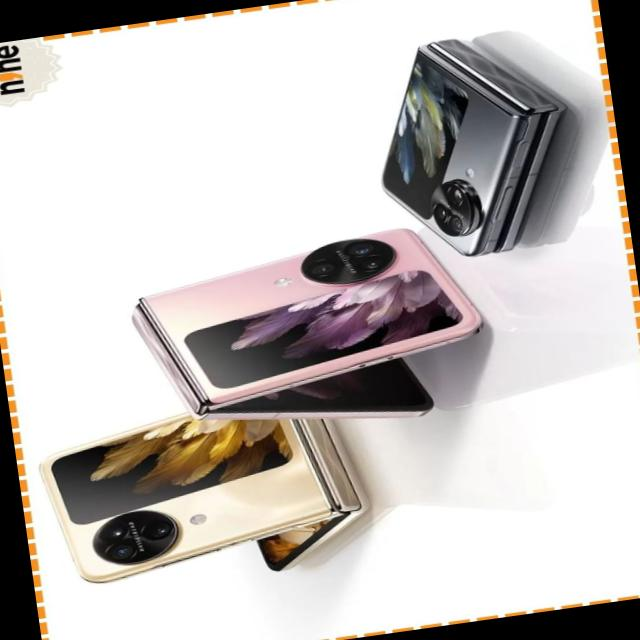mobile_phone: (89, 209, 513, 441), (333, 0, 590, 295), (28, 390, 374, 599)
